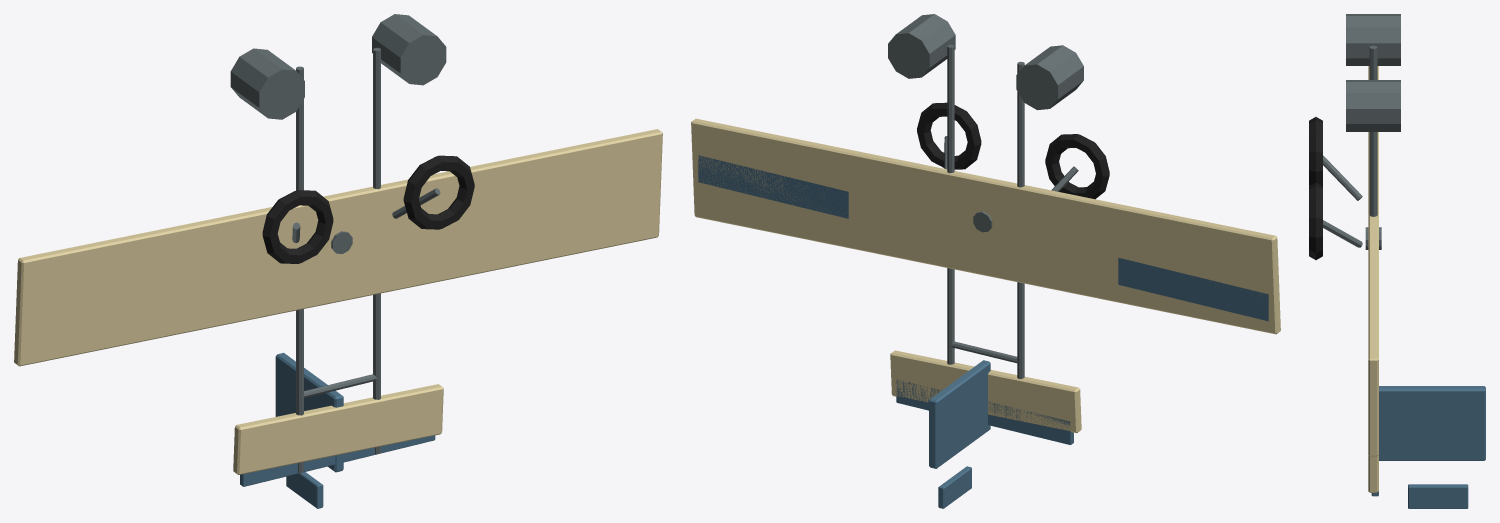
3 views of the same model, side by side, from view 1: azimuth 30°, elevation 25°; view 2: azimuth 150°, elevation 25°; view 3: azimuth 270°, elevation 25° (orthographic). The views are drawn at different scales.
Visible parts, largest first — view 1: main_wing.004, horizontal_tail.004, engine_mount_0.004, engine_mount_1, wheel_0.004, wheel_1.004, vertical_tail.004, exposed_longeron.009, elevator.004, exposed_longeron.008, rudder.004; view 2: main_wing.004, horizontal_tail.004, vertical_tail.004, aileron_L.004, aileron_R.004, engine_mount_0.004, engine_mount_1, elevator.004, wheel_0.004, wheel_1.004, exposed_longeron.009, exposed_longeron.008 (+1 smaller); view 3: vertical_tail.004, main_wing.004, engine_mount_1, engine_mount_0.004, rudder.004, wheel_1.004, wheel_0.004, exposed_longeron.009, horizontal_tail.004, landing_strut_0.004, landing_strut_1.004, exposed_longeron.008.
Part boxes in pixels (left/top/right/bottom): main_wing.004: left=14, top=129, right=662, bottom=366; horizontal_tail.004: left=233, top=384, right=443, bottom=474; engine_mount_0.004: left=230, top=48, right=304, bottom=119; engine_mount_1: left=372, top=14, right=446, bottom=85; wheel_0.004: left=262, top=190, right=333, bottom=263; wheel_1.004: left=403, top=155, right=474, bottom=229; vertical_tail.004: left=275, top=352, right=343, bottom=472; exposed_longeron.009: left=373, top=47, right=380, bottom=453; elevator.004: left=240, top=435, right=435, bottom=486; exposed_longeron.008: left=296, top=66, right=303, bottom=472; rudder.004: left=286, top=472, right=323, bottom=508; main_wing.004: left=691, top=118, right=1280, bottom=334; horizontal_tail.004: left=890, top=350, right=1081, bottom=433; vertical_tail.004: left=929, top=360, right=990, bottom=468; aileron_L.004: left=1118, top=257, right=1268, bottom=321; aileron_R.004: left=698, top=155, right=848, bottom=218; engine_mount_0.004: left=1016, top=45, right=1083, bottom=110; engine_mount_1: left=888, top=14, right=955, bottom=78; elevator.004: left=896, top=380, right=1073, bottom=444; wheel_0.004: left=1045, top=134, right=1109, bottom=199; wheel_1.004: left=917, top=102, right=981, bottom=169; exposed_longeron.009: left=947, top=44, right=954, bottom=364; exposed_longeron.008: left=1017, top=61, right=1024, bottom=378; vertical_tail.004: left=1379, top=386, right=1485, bottom=460; main_wing.004: left=1368, top=66, right=1378, bottom=456; engine_mount_1: left=1346, top=80, right=1400, bottom=131; engine_mount_0.004: left=1346, top=14, right=1400, bottom=65; rudder.004: left=1408, top=484, right=1468, bottom=508; wheel_1.004: left=1309, top=183, right=1322, bottom=259; wheel_0.004: left=1309, top=117, right=1322, bottom=186; exposed_longeron.009: left=1369, top=132, right=1377, bottom=216; horizontal_tail.004: left=1368, top=455, right=1378, bottom=492; landing_strut_0.004: left=1323, top=155, right=1362, bottom=200; landing_strut_1.004: left=1323, top=220, right=1362, bottom=247; exposed_longeron.008: left=1369, top=45, right=1377, bottom=79.
Size of the model in its own units: 8.04 by 5.72 by 2.
